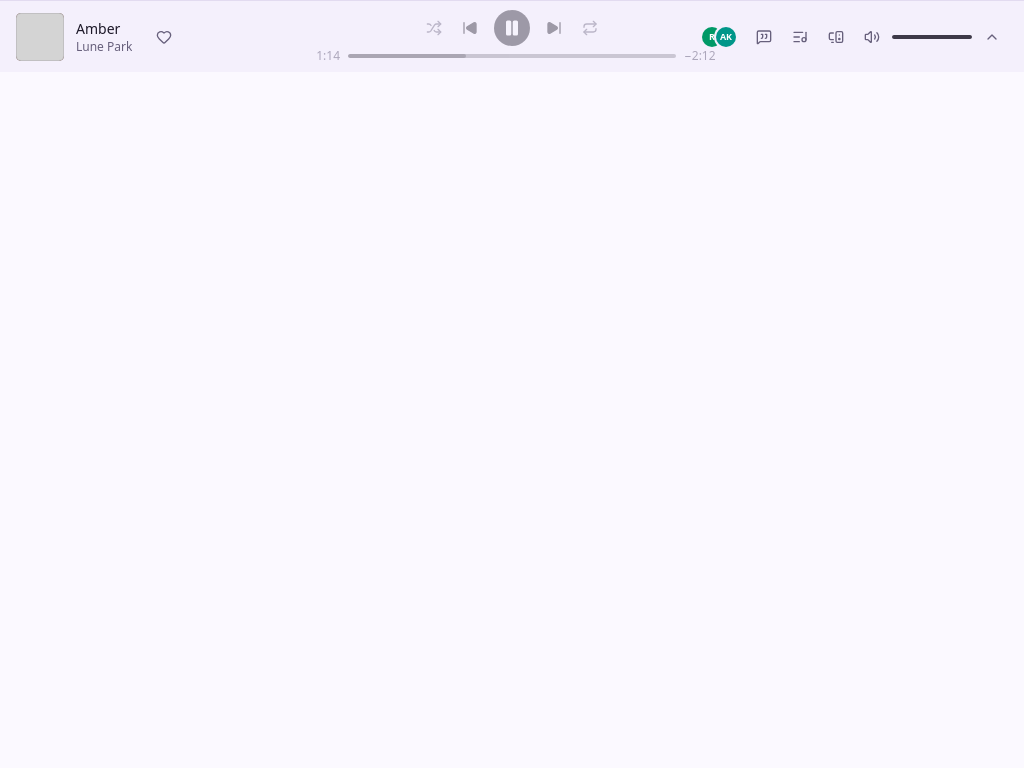
Test: listen together › lets a member leave, and leaves playback to the host
Later steps or results of the test are not shown.
Check: the button named "Pause" is disabled, box top-left (494, 10), bottom-right (530, 46)
Check: the button named "Next" is disabled, box top-left (538, 12), bottom-right (570, 44)
Click the button with aria-label "Listening together with 1 other" at (719, 36), box top-left (694, 20), bottom-right (744, 52)
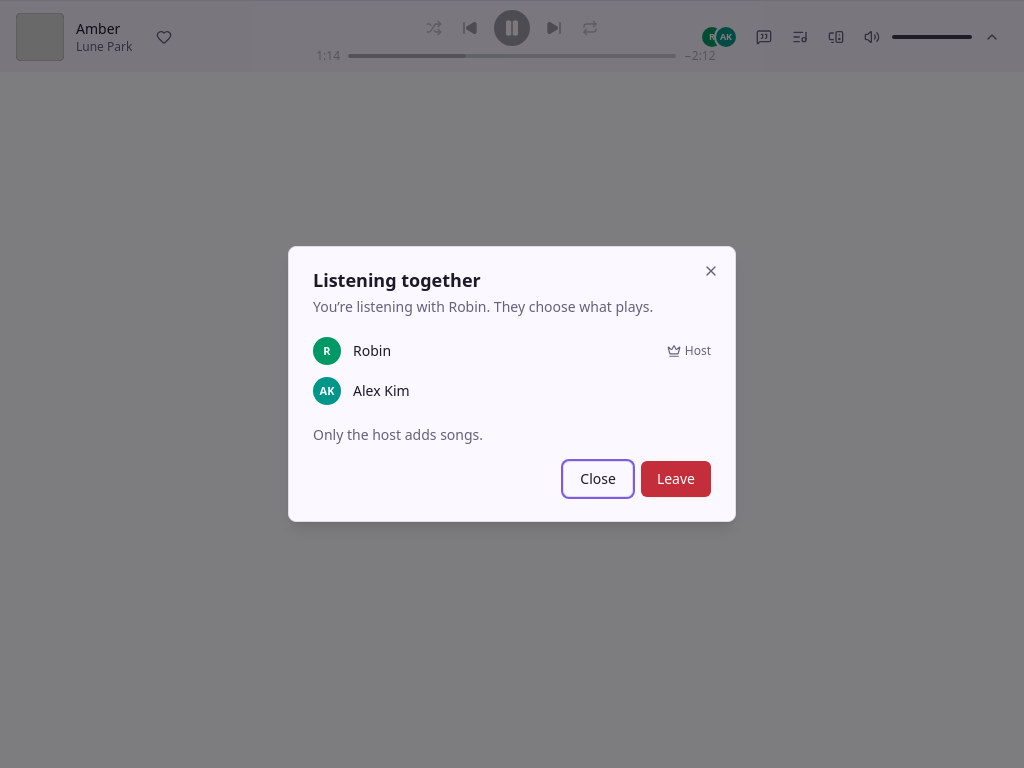
Check: the text "Only the host adds songs." is shown, box top-left (313, 425), bottom-right (483, 444)
